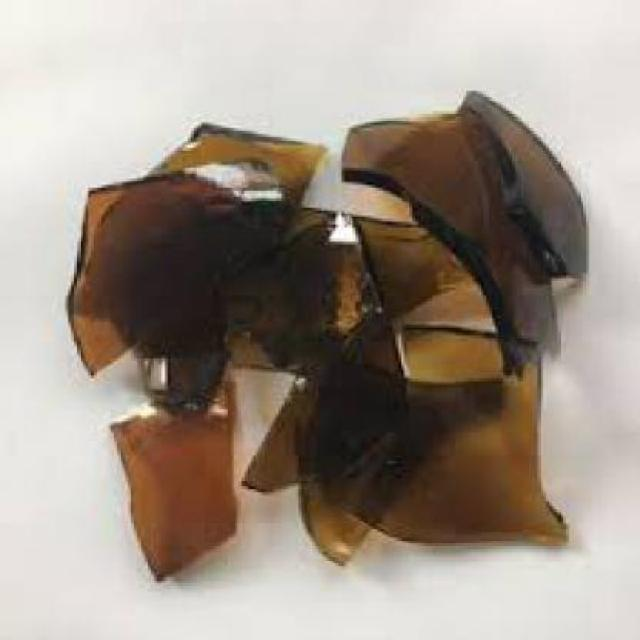kaca: (341, 108, 554, 378), (60, 154, 282, 372), (345, 331, 569, 543), (294, 305, 411, 563), (351, 202, 506, 378), (248, 202, 382, 382), (456, 85, 586, 268), (106, 398, 237, 577), (222, 205, 331, 369), (140, 117, 322, 205), (228, 365, 324, 492), (128, 332, 228, 412)
